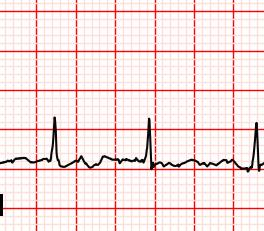T inversion: (75, 151, 112, 171)
